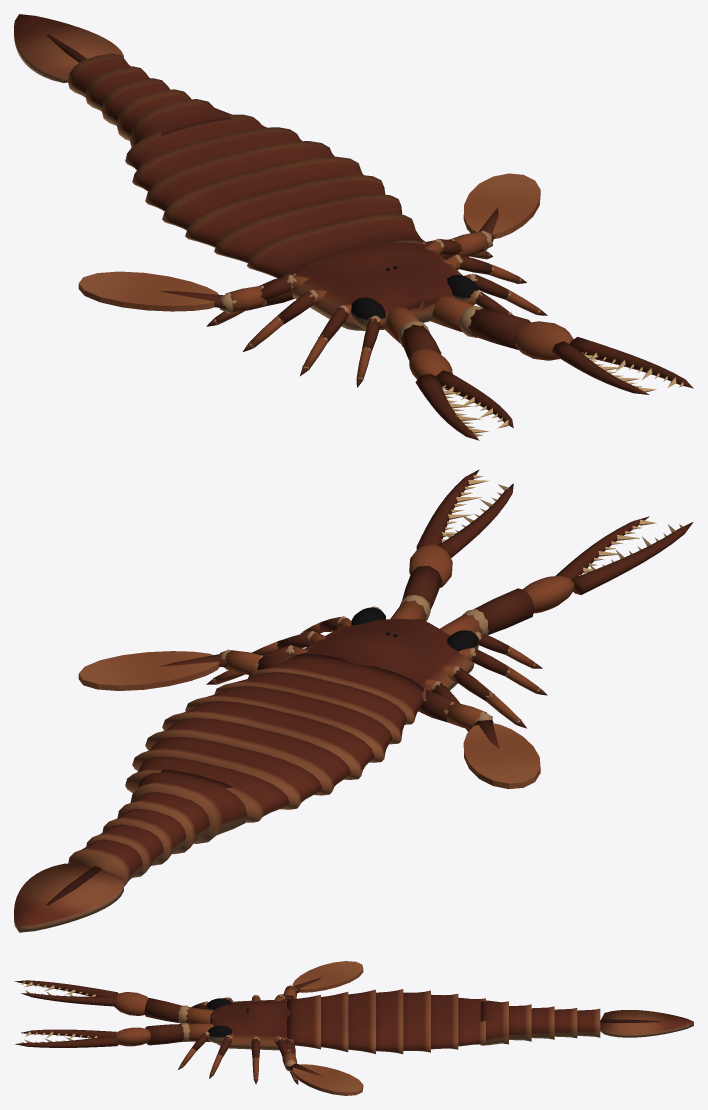
Rendered from AcutiramusMacrophthalmus.fbx.
3 renders of one model, top to bottom at view 1: azimuth 30°, elevation 25°; view 2: azimuth 150°, elevation 25°; view 3: azimuth 270°, elevation 25°, orthographic. The views are drawn at different scales.
Visible parts, largest first — view 1: AcutiramusMacrophthalmus; view 2: AcutiramusMacrophthalmus; view 3: AcutiramusMacrophthalmus.
Boxes of the visible parts, x1,y1,x2,y2 form: AcutiramusMacrophthalmus: [14, 14, 693, 440]; AcutiramusMacrophthalmus: [14, 469, 693, 932]; AcutiramusMacrophthalmus: [14, 961, 693, 1095].
Bounding box in the file's own units: 1.2 × 0.1543 × 2.61.
